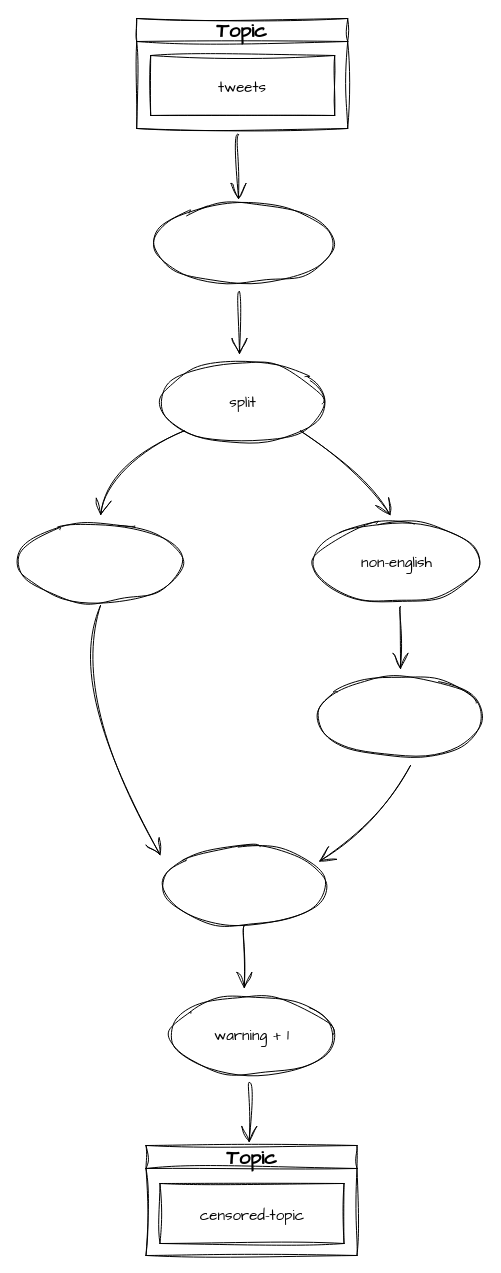
This 501x1273 diagram has some shape labels left out. Each missing label, with the centre of its shape:
english: pixel 99 562
filtering: pixel 244 243
merge: pixel 244 885
translate: pixel 401 716
